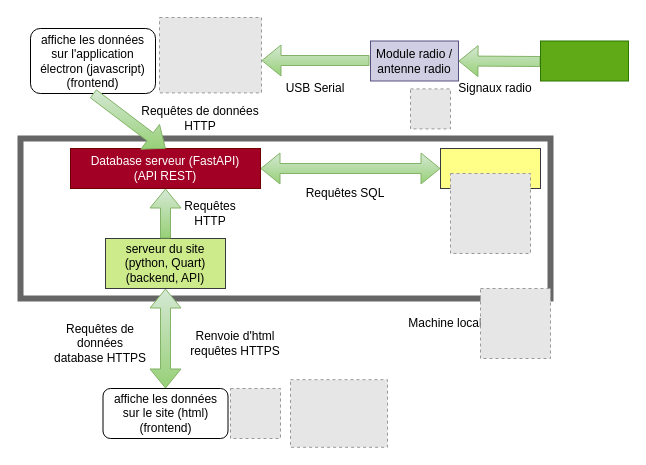
Image size: 646x465. Some labels were removed from this diagram. Grey dashed boxes stand in for pictures. The shapes that lost their labels are listed below. From the top down, each one's box as (x1, y1, x2, y2) in pixels, then its label:
(540, 40, 628, 81): Module radio cansat
(440, 148, 540, 188): Database (sqlite) stock les données
